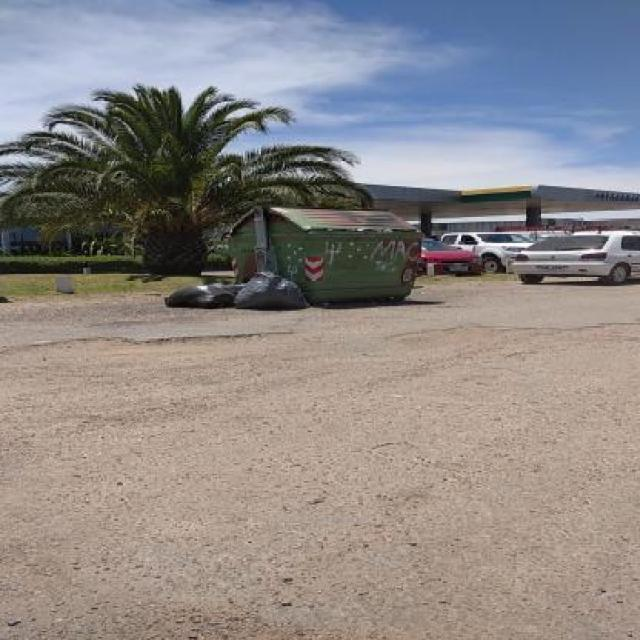garbage: (172, 205, 386, 328)
